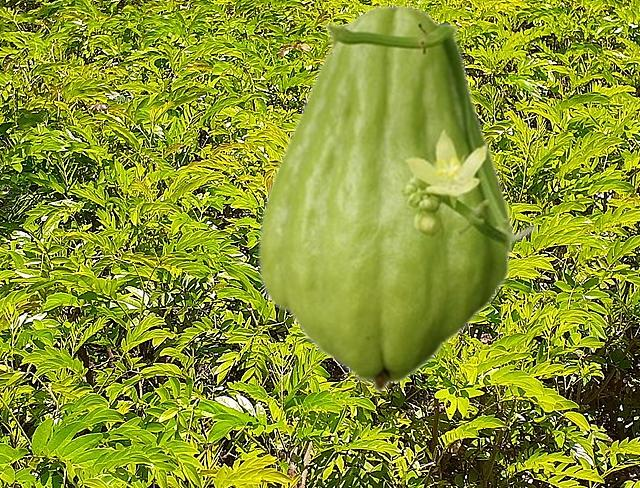sayote: (256, 4, 537, 392)
